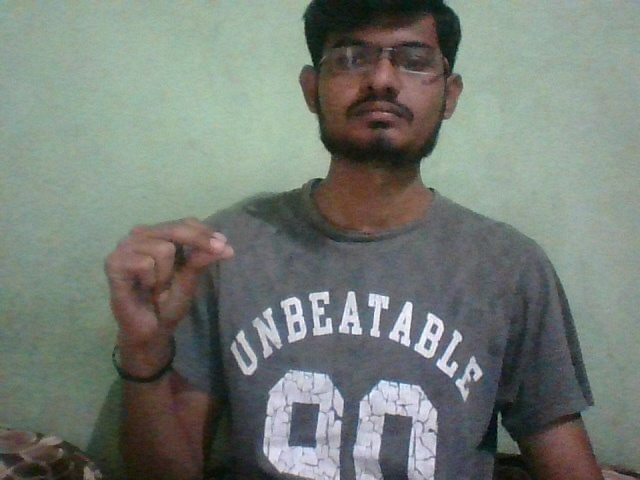no: (95, 209, 245, 343)
